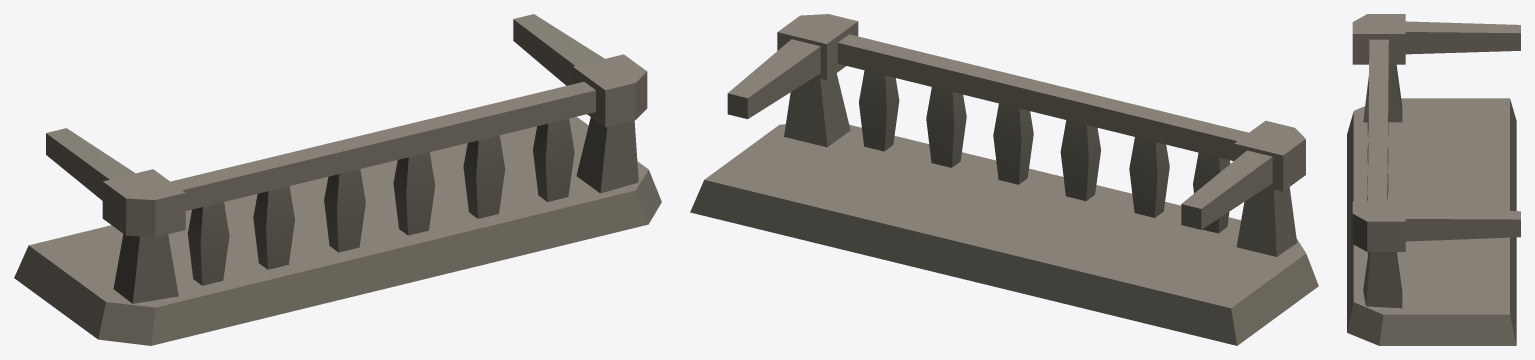
Rendered from Balcony_A1.fbx.
3 views of the same model, side by side, from view 1: azimuth 30°, elevation 25°; view 2: azimuth 150°, elevation 25°; view 3: azimuth 270°, elevation 25° (orthographic). The views are drawn at different scales.
Visible parts, largest first — view 1: Balcony_A1; view 2: Balcony_A1; view 3: Balcony_A1.
Part boxes in pixels (box(x1,y1,x2,y2)): Balcony_A1: box(14, 14, 661, 345); Balcony_A1: box(690, 14, 1318, 345); Balcony_A1: box(1347, 14, 1520, 345).
Bounding box in the file's own units: 557 × 133 × 182.
